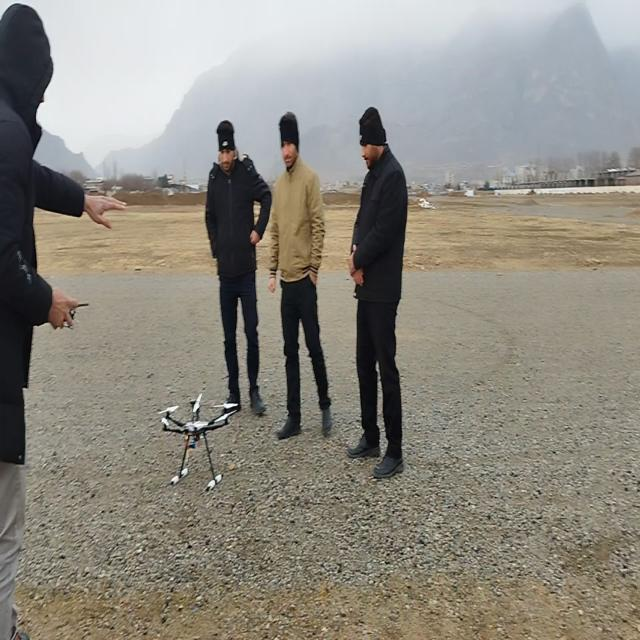drone: (159, 395, 239, 496)
